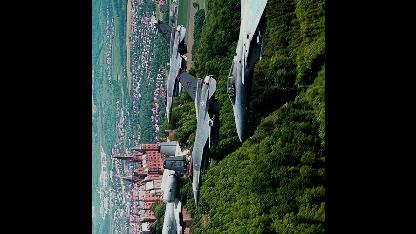A10: (156, 140, 187, 233)
F117: (213, 0, 276, 144)
F14: (176, 66, 218, 208), (155, 18, 185, 126)
